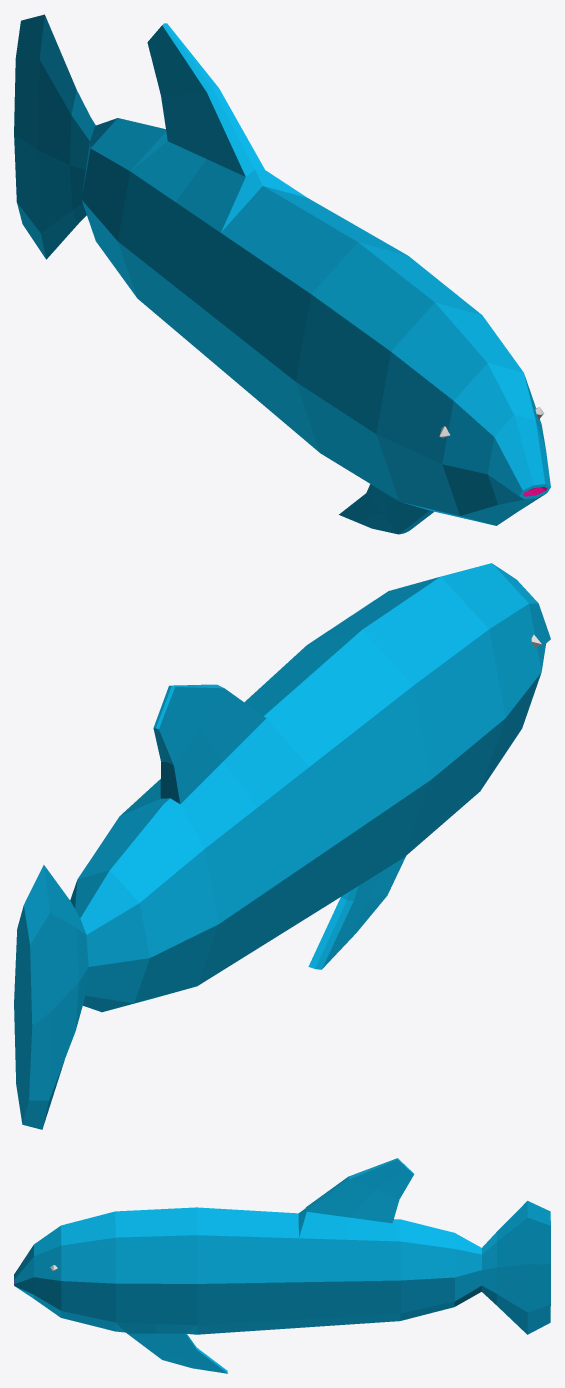
Rendered from Anchovy.fbx.
3 views of the same model, one above another, from view 1: azimuth 30°, elevation 25°; view 2: azimuth 150°, elevation 25°; view 3: azimuth 270°, elevation 25° (orthographic). The views are drawn at different scales.
Parts seen in each view (by area): view 1: Circle; view 2: Circle; view 3: Circle.
Boxes of the visible parts, <box> form: Circle: <box>14,14,550,534</box>; Circle: <box>14,563,550,1129</box>; Circle: <box>14,1158,550,1373</box>.
Bounding box in the file's own units: 64.03 × 169 × 396.
